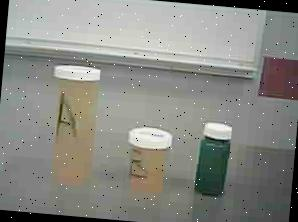Bottle A: (36, 57, 118, 193)
Bottle B: (122, 118, 180, 201)
Bottle C: (191, 118, 238, 210)
